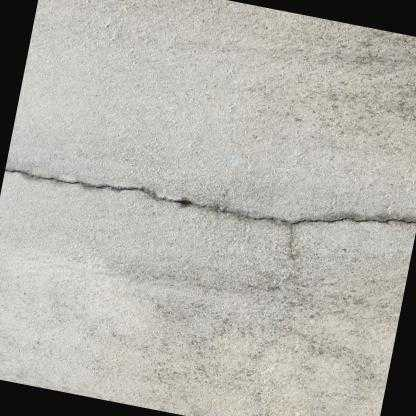crack: (3, 169, 416, 224)
